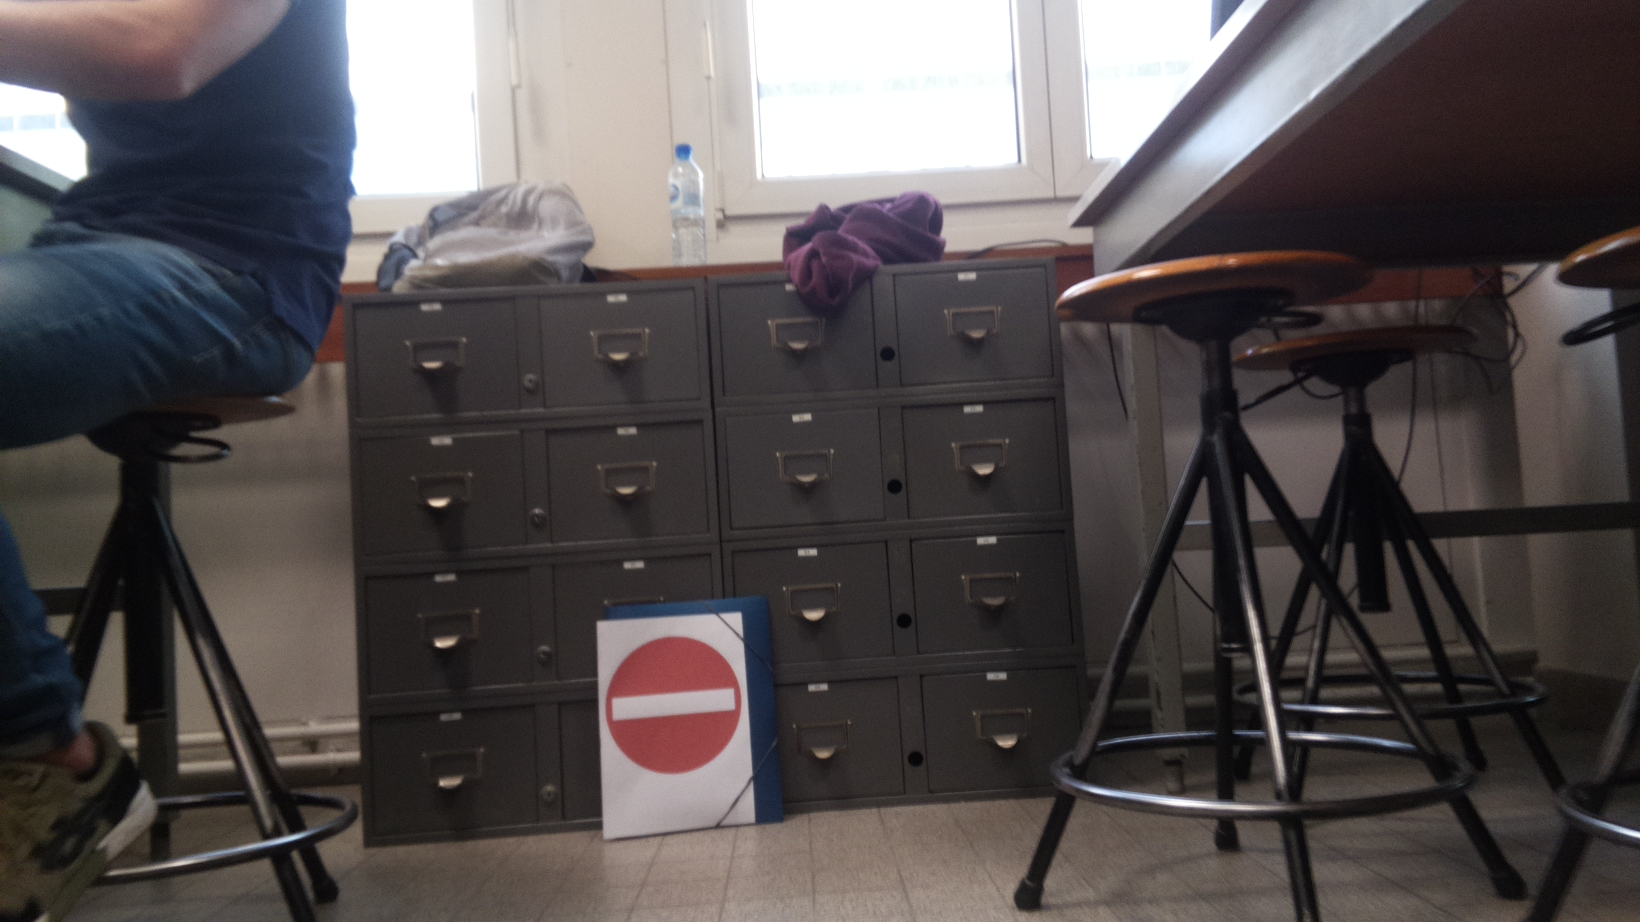prohibited: (604, 634, 745, 777)
